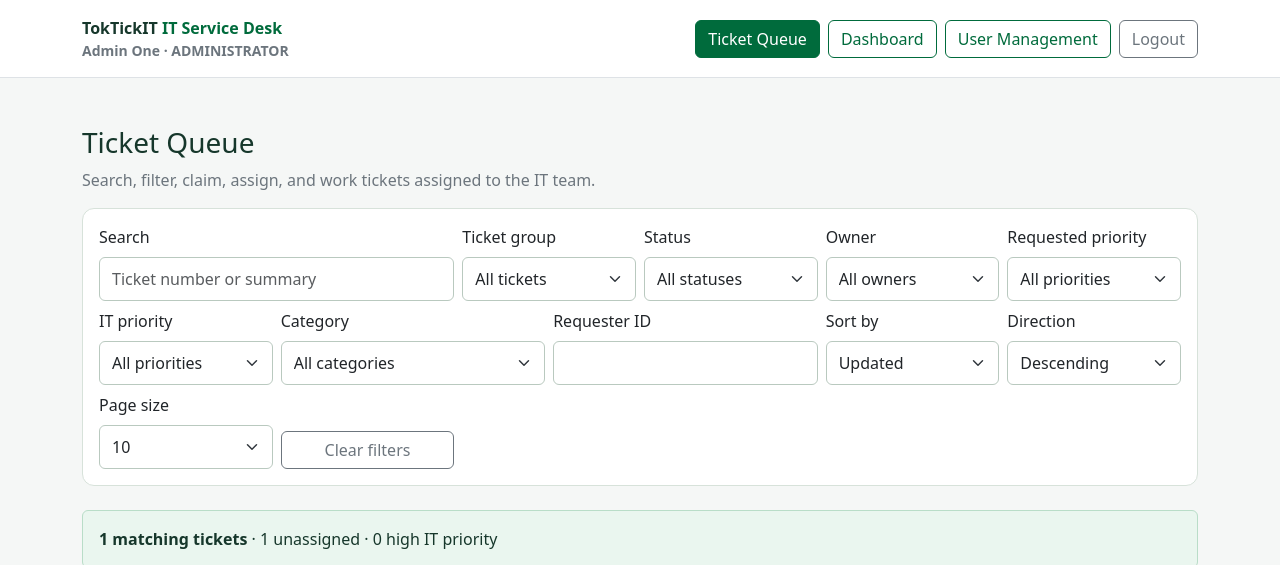
production Lab 3 screens › renders administrator name/email edit controls and mobile card content
Click the button "User Management" at (1028,38), box left=945, top=20, right=1111, bottom=58
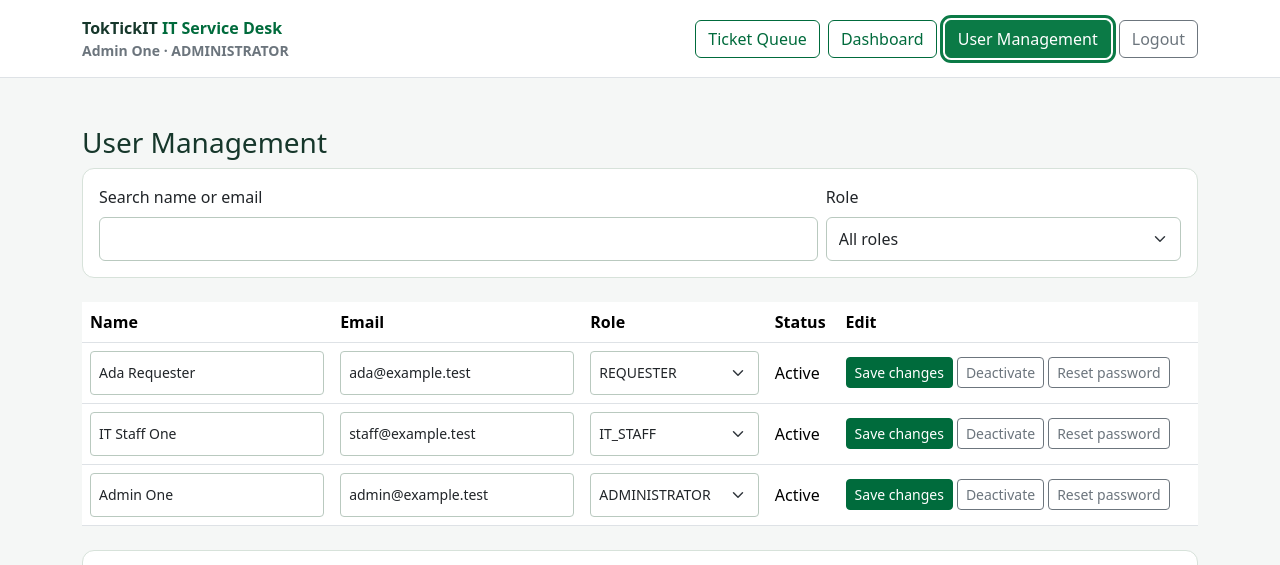
Expected: the heading "User Management" is shown, left=82, top=123, right=327, bottom=161
Expected: the number of buttons "Save changes" is 6
Expected: the 1st field named "Name for ada@example.test" is shown, left=90, top=351, right=324, bottom=395
